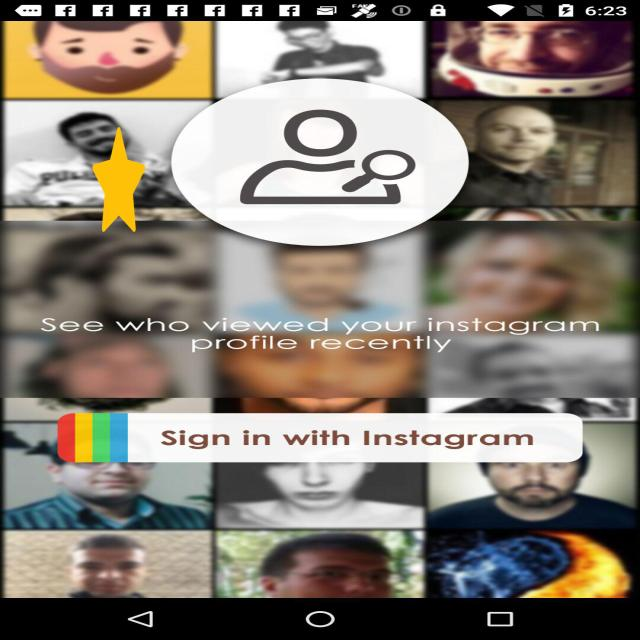forced continuity: (93, 127, 145, 232)
